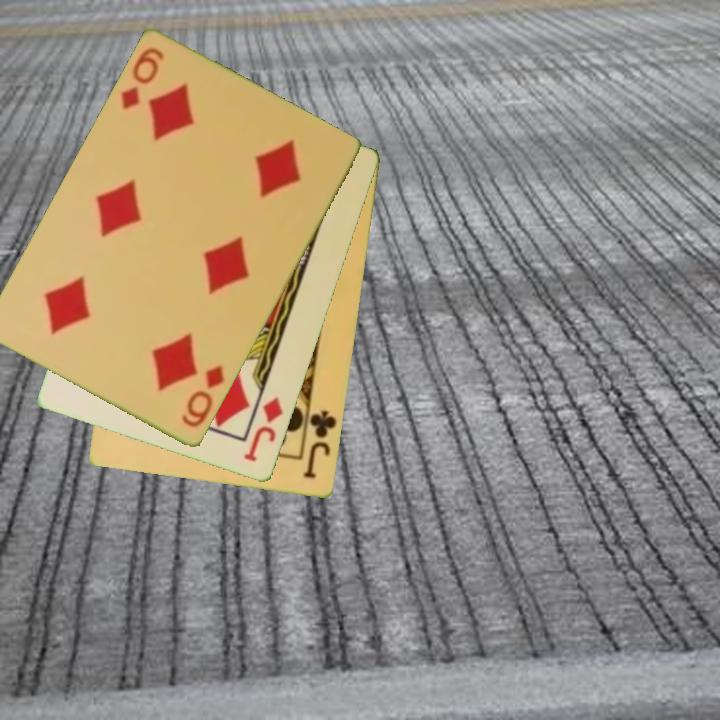6d: (117, 44, 168, 114), (178, 362, 228, 431)
Jc: (300, 407, 340, 482)
Jd: (241, 393, 286, 465)
